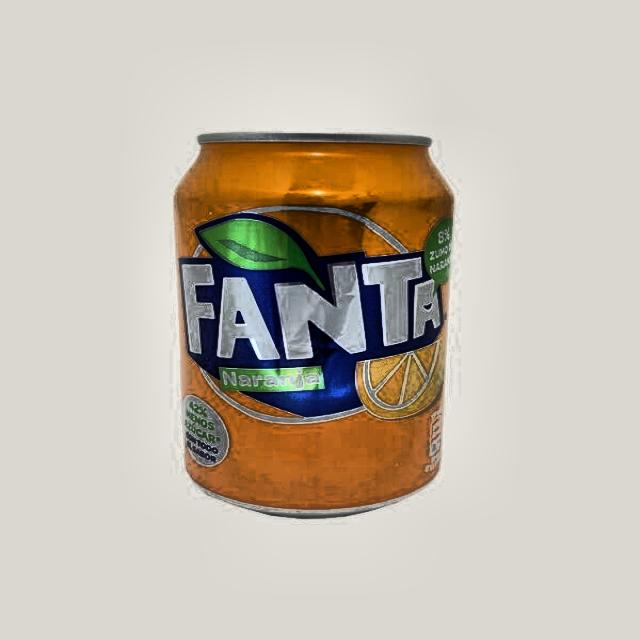Cans: (155, 116, 486, 528)
